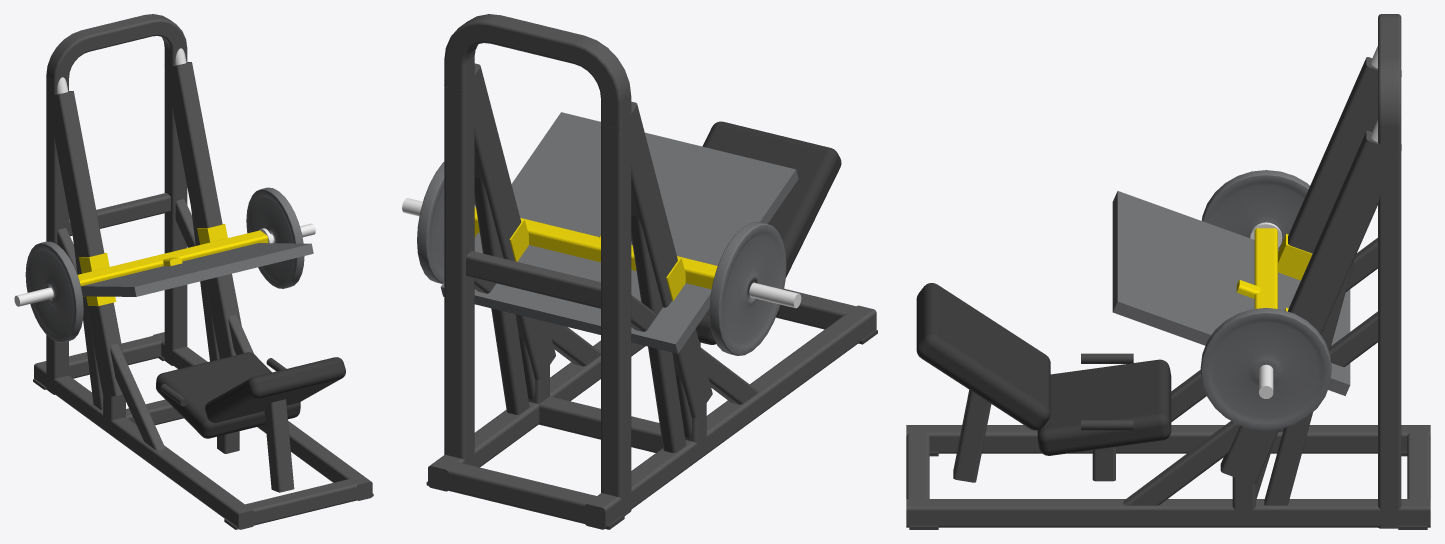
3 views of the same model, side by side, from view 1: azimuth 30°, elevation 25°; view 2: azimuth 150°, elevation 25°; view 3: azimuth 270°, elevation 25° (orthographic). The views are drawn at different scales.
Parts seen in each view (by area): view 1: rail_beam (×2), base, rear_arch_tube, carriage, frame, seat_pad, foot_plate, backrest_pad, carriage_beam, backrest, rear_tie, carriage_slider (×2) (+2 smaller); view 2: rear_arch_tube, foot_plate, base, frame, rail_beam (×2), carriage, backrest_pad, rear_tie, carriage_beam, plate_horn; view 3: base, carriage, foot_plate, rail_beam (×2), rear_arch_tube, backrest_pad, frame, seat_pad, backrest, carriage_beam, carriage_slider, seat.
Boxes of the visible parts, x1,y1,x2,y2 form: rail_beam (×2): (46, 62, 241, 396); base: (33, 332, 373, 529); rear_arch_tube: (46, 14, 187, 394); carriage: (25, 187, 304, 342); frame: (57, 199, 253, 450); seat_pad: (156, 352, 300, 438); foot_plate: (81, 243, 313, 296); backrest_pad: (205, 357, 345, 422); carriage_beam: (77, 230, 268, 296); backrest: (264, 399, 294, 492); rear_tie: (69, 193, 170, 236); carriage_slider (×2): (78, 224, 227, 306); rear_arch_tube: (444, 14, 631, 515); foot_plate: (440, 112, 798, 353); base: (426, 288, 877, 529); frame: (474, 177, 758, 452); rail_beam (×2): (444, 63, 712, 418); carriage: (417, 162, 786, 355); backrest_pad: (702, 121, 841, 277); rear_tie: (466, 251, 600, 308); carriage_beam: (474, 207, 717, 289); plate_horn: (749, 282, 801, 308); base: (906, 425, 1430, 529); carriage: (1200, 170, 1331, 430); foot_plate: (1112, 191, 1350, 395); rail_beam (×2): (1220, 57, 1401, 484); rear_arch_tube: (1378, 14, 1401, 528); backrest_pad: (916, 283, 1050, 430); frame: (1123, 238, 1377, 510); seat_pad: (1037, 359, 1171, 455); backrest: (953, 390, 991, 482); carriage_beam: (1254, 228, 1277, 308); carriage_slider: (1278, 234, 1312, 280); seat: (1092, 447, 1115, 481).
Bounding box in the file's own units: 1.5 × 1.7 × 1.8.
